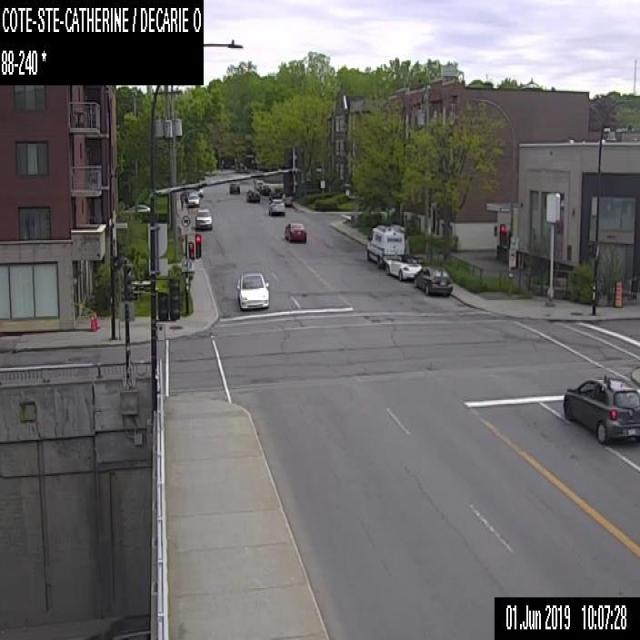construction: (612, 280, 621, 307), (90, 312, 97, 331)
pedestrian: (179, 190, 184, 209)
vehicle: (561, 375, 639, 444), (86, 612, 150, 639), (366, 224, 404, 267), (413, 265, 452, 295), (237, 271, 268, 308), (386, 253, 422, 280), (284, 221, 306, 242), (194, 207, 211, 228), (268, 198, 285, 216), (186, 187, 203, 205), (268, 187, 283, 200), (246, 189, 259, 201), (228, 180, 239, 192), (253, 178, 262, 192), (259, 184, 270, 195), (282, 193, 291, 205)
